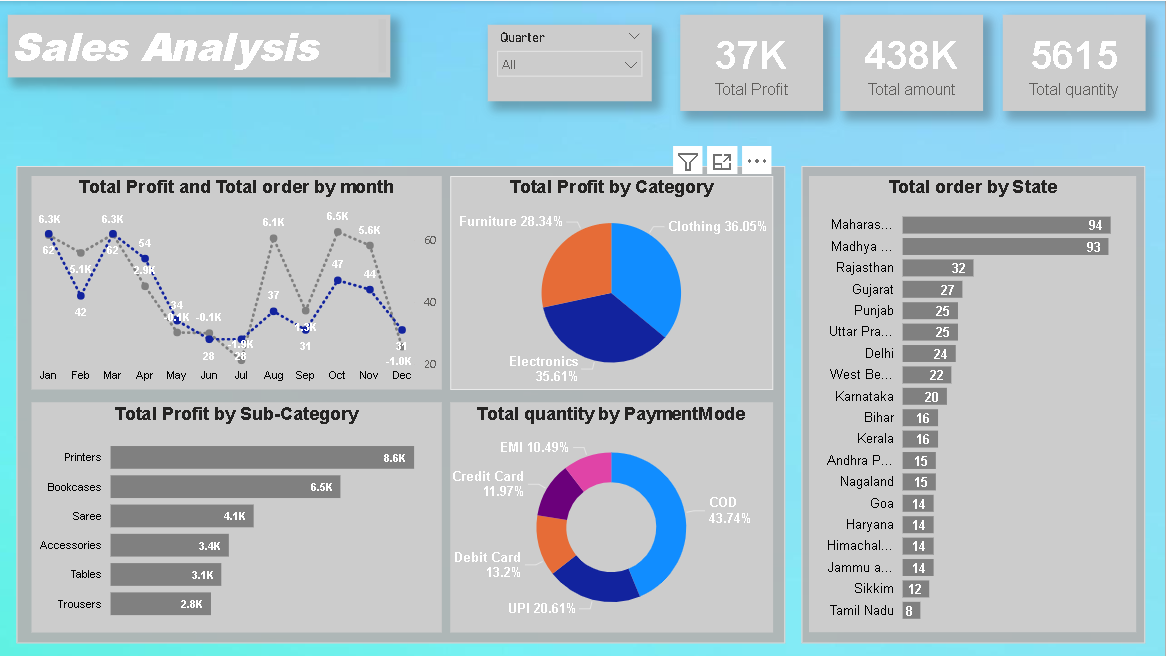

This screenshot's page, from the dashboard's own definition file:
{"tool":"powerbi","page":{"name":"Page 1","canvas":[1280,720],"ordinal":0},"visuals":[{"type":"shape","box":[19.2,181.1,843.9,524.2],"z":0},{"type":"shape","box":[881,181.1,377.4,524.2],"z":1000},{"type":"textbox","box":[9.6,15.1,419.9,68.6],"z":2000},{"type":"clusteredBarChart","fields":{"Y":["All measure.Total Profit"],"Category":["Details.Sub-Category"]},"box":[35.7,440.5,450.1,252.5],"z":3000},{"type":"donutChart","fields":{"Category":["Details.PaymentMode"],"Y":["All measure.Total quantity"]},"box":[495.4,440.5,354,252.5],"z":4000},{"type":"clusteredBarChart","fields":{"Category":["Orders.State"],"Y":["All measure.Total order"]},"box":[889.2,192.1,359.5,500.9],"z":5000},{"type":"pieChart","fields":{"Category":["Details.Category"],"Y":["All measure.Total Profit"]},"box":[495.4,192.1,354,234.6],"z":6000},{"type":"card","fields":{"Values":["All measure.Total Profit"]},"box":[747.9,15.1,156.4,105.7],"z":7000},{"type":"card","fields":{"Values":["All measure.Total amount"]},"box":[923.5,15.1,156.4,105.7],"z":8000},{"type":"card","fields":{"Values":["All measure.Total quantity"]},"box":[1101.9,15.1,156.4,105.7],"z":9000},{"type":"slicer","fields":{"Values":["Orders.Quarter"]},"box":[536.5,26.1,179.8,83.7],"z":10000},{"type":"lineChart","fields":{"Y":["All measure.Total Profit"],"Category":["Orders.month"],"Y2":["All measure.Total order"]},"box":[35.7,192.1,450.1,234.6],"z":11000}]}

Visuals, with their boxes in screenshot pixels (x1, y1, x2, y2), scaled from the page's 1280x720 canvas onto the 1166x656 screenshot:
shape: [17, 165, 786, 643]
shape: [803, 165, 1146, 643]
textbox: [9, 14, 391, 76]
clusteredBarChart - All measure.Total Profit x Details.Sub-Category: [33, 401, 443, 631]
donutChart - Details.PaymentMode x All measure.Total quantity: [451, 401, 774, 631]
clusteredBarChart - Orders.State x All measure.Total order: [810, 175, 1137, 631]
pieChart - Details.Category x All measure.Total Profit: [451, 175, 774, 389]
card - All measure.Total Profit: [681, 14, 824, 110]
card - All measure.Total amount: [841, 14, 984, 110]
card - All measure.Total quantity: [1004, 14, 1146, 110]
slicer - Orders.Quarter: [489, 24, 653, 100]
lineChart - All measure.Total Profit x Orders.month: [33, 175, 443, 389]
